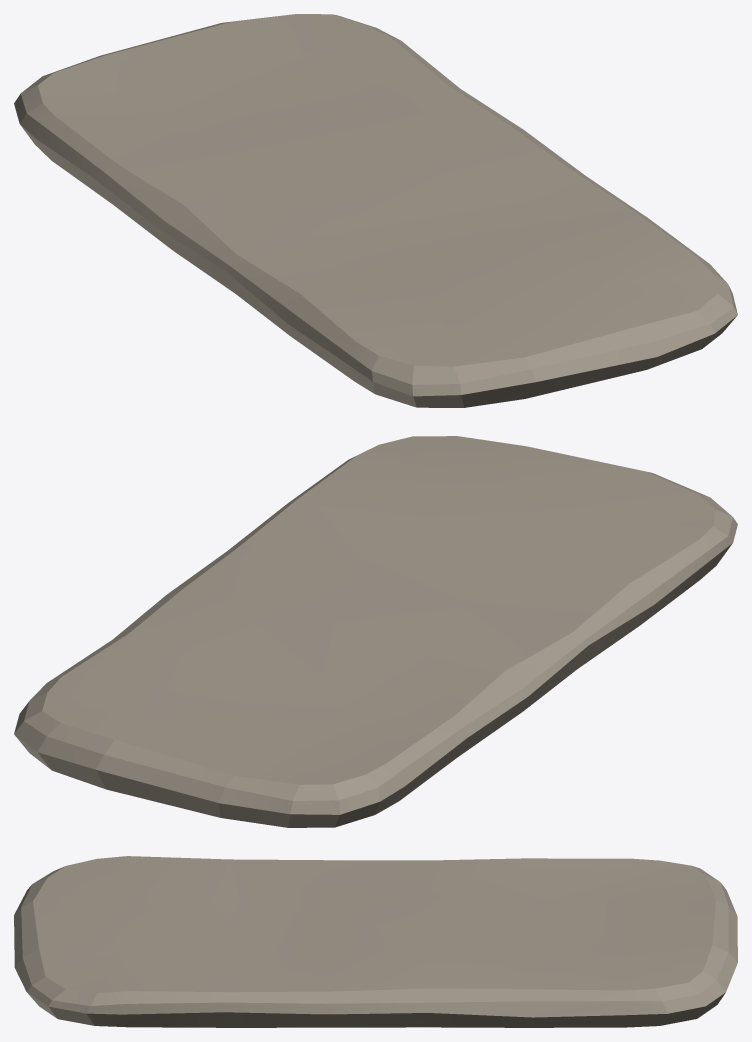
File: Bed_1x2_01.fbx
3 views of the same model, one above another, from view 1: azimuth 30°, elevation 25°; view 2: azimuth 150°, elevation 25°; view 3: azimuth 270°, elevation 25° (orthographic). The views are drawn at different scales.
Parts seen in each view (by area): view 1: Bed_1x2_01_LOD0; view 2: Bed_1x2_01_LOD0; view 3: Bed_1x2_01_LOD0.
Part boxes in pixels (left/top/right/bottom): Bed_1x2_01_LOD0: left=14, top=14, right=737, bottom=407; Bed_1x2_01_LOD0: left=14, top=436, right=737, bottom=827; Bed_1x2_01_LOD0: left=14, top=856, right=737, bottom=1027.
Size of what is drawn, in the model's own units: 0.9683 by 0.1206 by 1.99.
